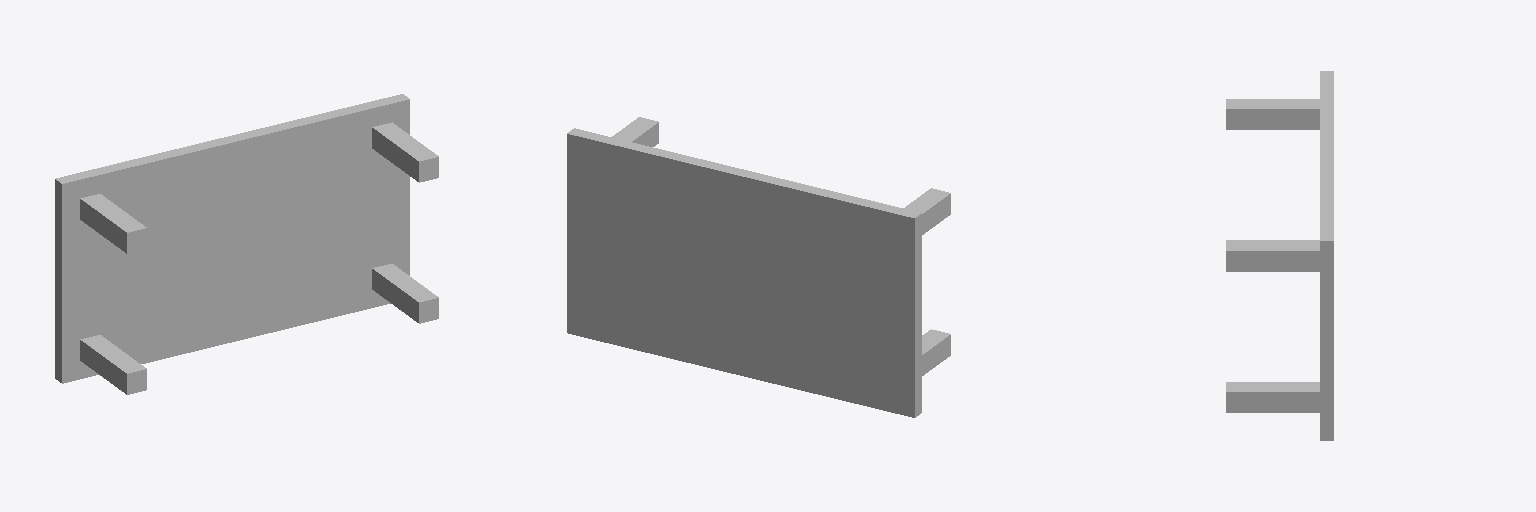
The model's file is random_table40.obj.
The picture shows the model from 3 angles: view 1: azimuth 30°, elevation 25°; view 2: azimuth 150°, elevation 25°; view 3: azimuth 270°, elevation 25°; orthographic projection.
Parts seen in each view (by area): view 1: Table_Cube.395, TableLeg1_Cube.397, TableLeg0_Cube.396, TableLeg2_Cube.398, TableLeg3_Cube.399; view 2: Table_Cube.395, TableLeg1_Cube.397, TableLeg3_Cube.399, TableLeg0_Cube.396; view 3: Table_Cube.395, TableLeg0_Cube.396, TableLeg1_Cube.397, TableLeg2_Cube.398.
Part boxes in pixels (left/top/right/bottom): Table_Cube.395: left=55, top=94, right=409, bottom=383; TableLeg1_Cube.397: left=80, top=194, right=146, bottom=253; TableLeg0_Cube.396: left=372, top=122, right=438, bottom=182; TableLeg2_Cube.398: left=372, top=264, right=438, bottom=323; TableLeg3_Cube.399: left=80, top=335, right=146, bottom=394; Table_Cube.395: left=567, top=128, right=921, bottom=417; TableLeg1_Cube.397: left=903, top=188, right=950, bottom=234; TableLeg3_Cube.399: left=922, top=329, right=950, bottom=375; TableLeg0_Cube.396: left=612, top=117, right=658, bottom=146; Table_Cube.395: left=1320, top=71, right=1333, bottom=440; TableLeg0_Cube.396: left=1226, top=241, right=1319, bottom=271; TableLeg1_Cube.397: left=1226, top=99, right=1319, bottom=129; TableLeg2_Cube.398: left=1226, top=382, right=1319, bottom=412.
Bounding box in the file's own units: 7.56 × 4.15 × 2.05.